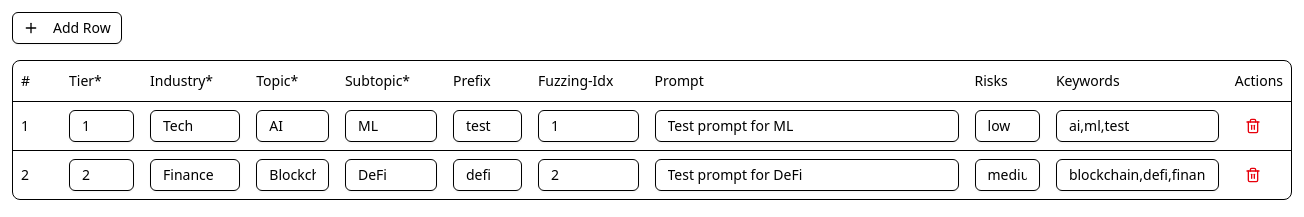
Test: EditableTable › Strings Table › handles deleting rows
Click the 2nd button at (1253, 126), box [1235, 110, 1271, 142]
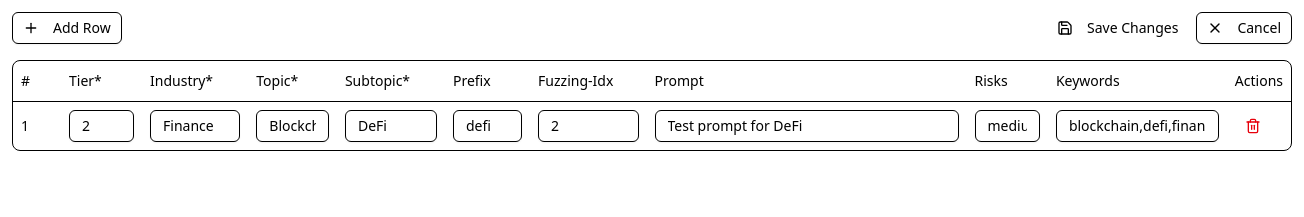
Expected: the number of fields with placeholder "Tier" is 1, [69, 110, 134, 142]
